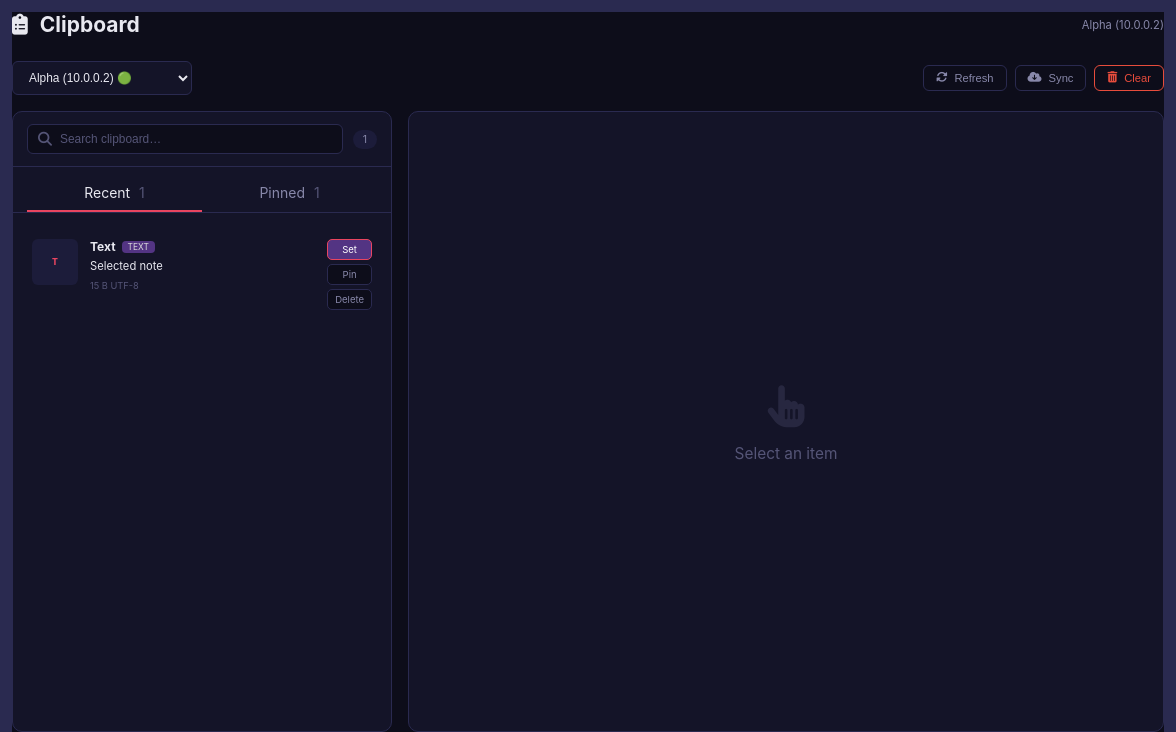
it: ClipboardView › clears detail selection when switching clipboard views
What coordinates should you click on to do the following:
click the text "Selected note"
I would click on:
 (126, 266)
Its box is [90,259,163,273].
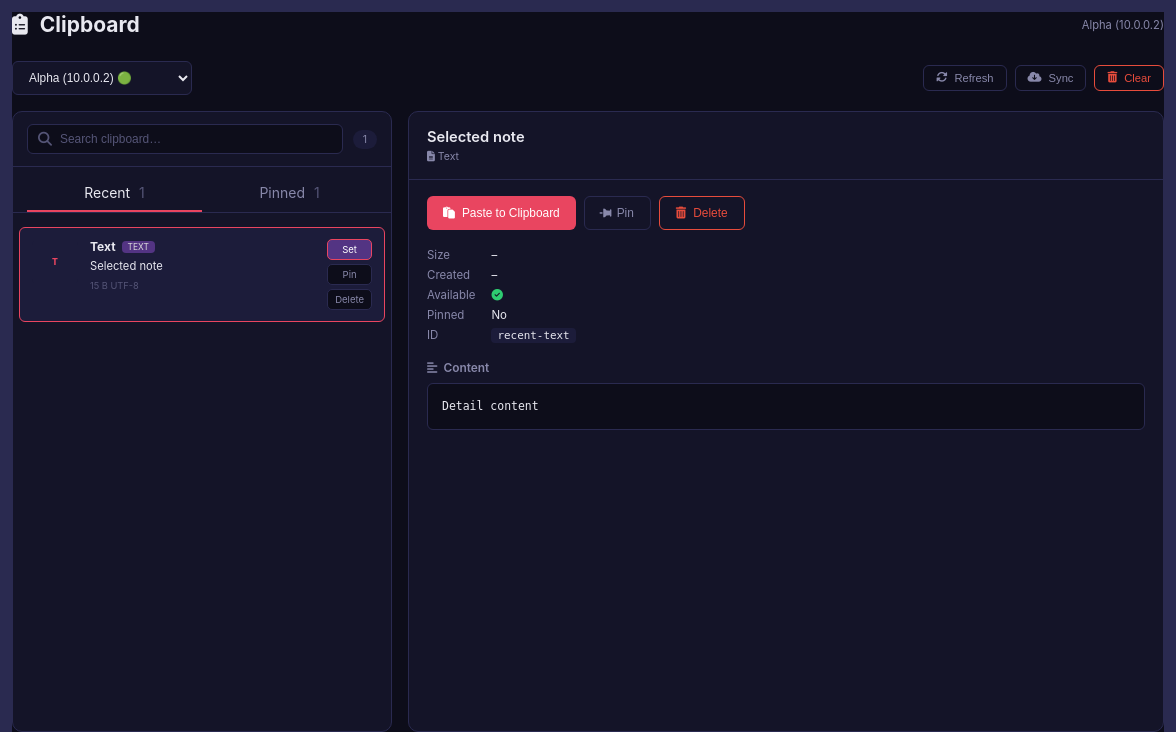
Check: the text "Detail content" is shown, box [427,383,1145,430]
What coordinates should you click on to do the following:
click the button "Pinned 1"
I would click on:
 (290, 194)
Its box is [202,175,377,212].
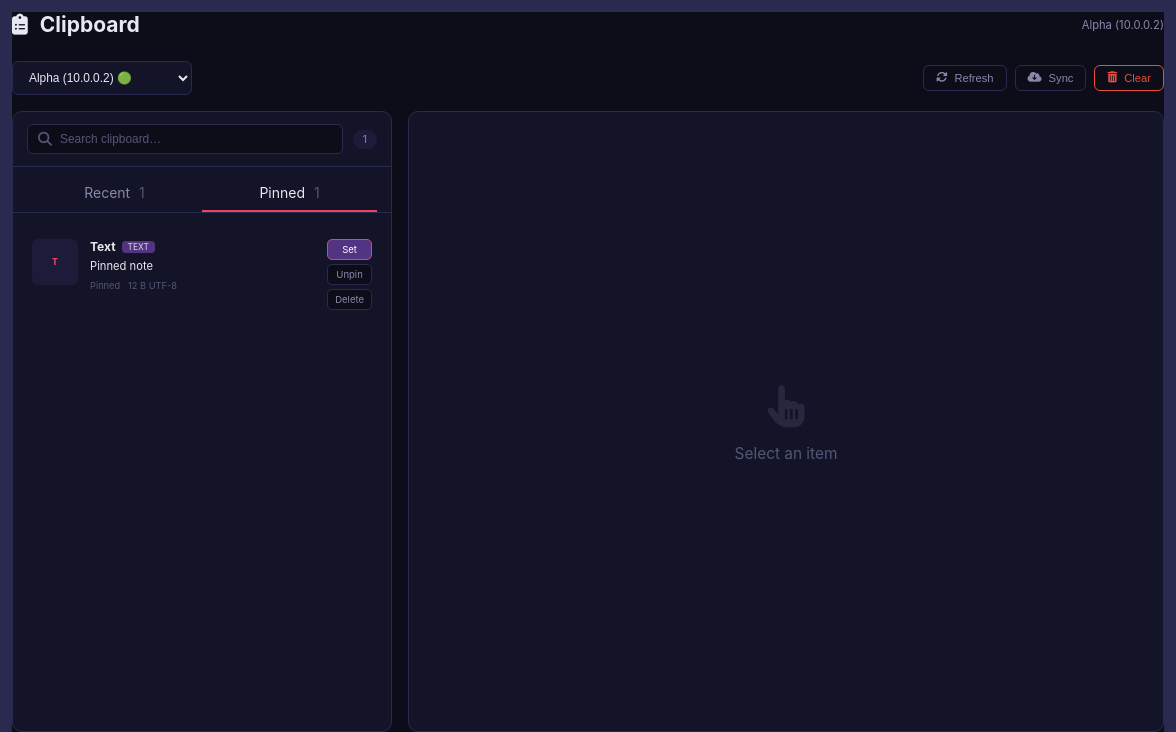
Check: the text "Detail content" is gone
Check: the text "Select an item" is shown, box [735,444,837,462]
